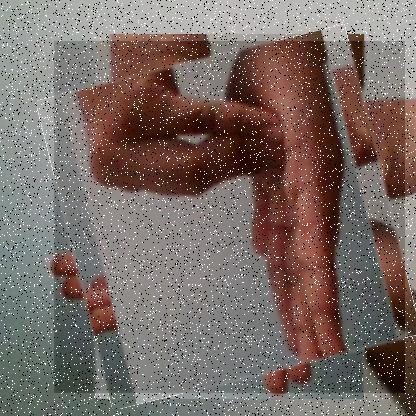Z: (53, 41, 405, 394)
